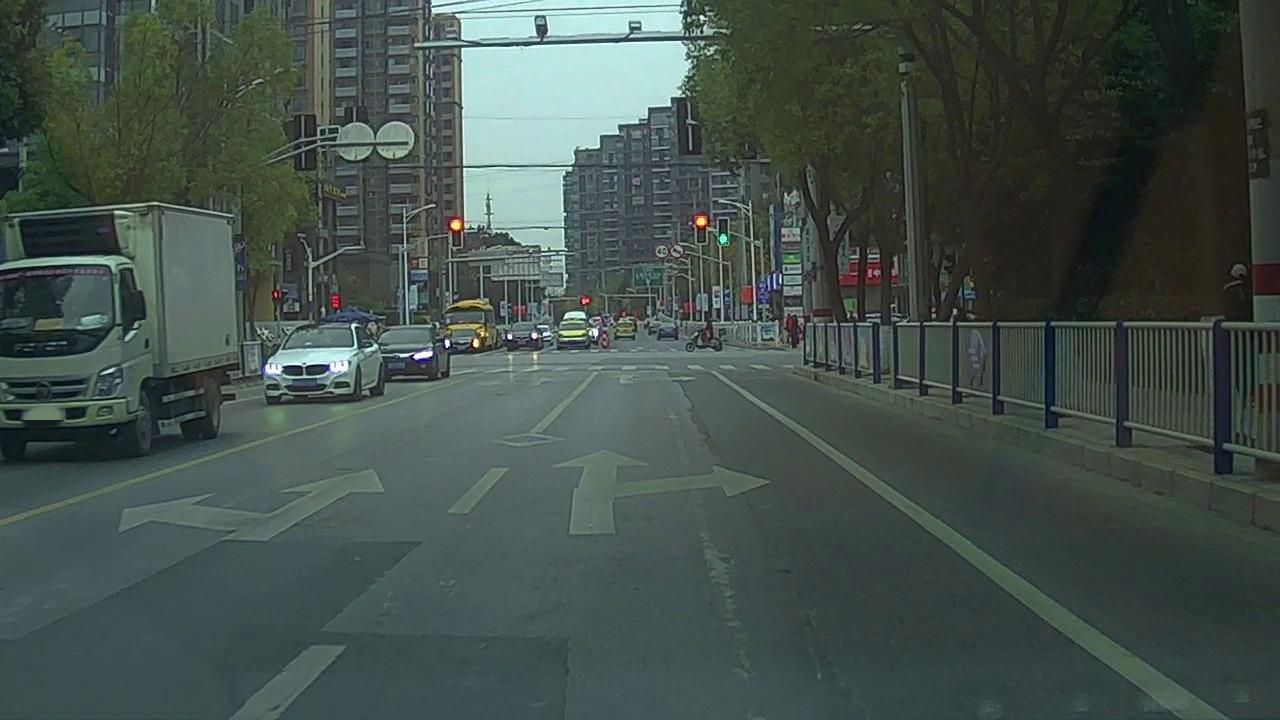traffic_light: (447, 218, 460, 250), (697, 215, 708, 246), (719, 218, 728, 245)
